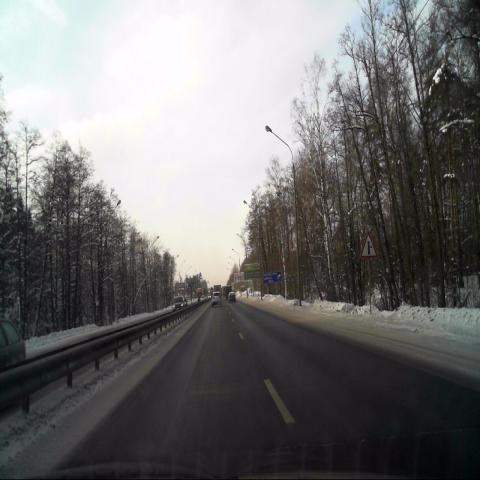2_3_2: (360, 231, 376, 259)
